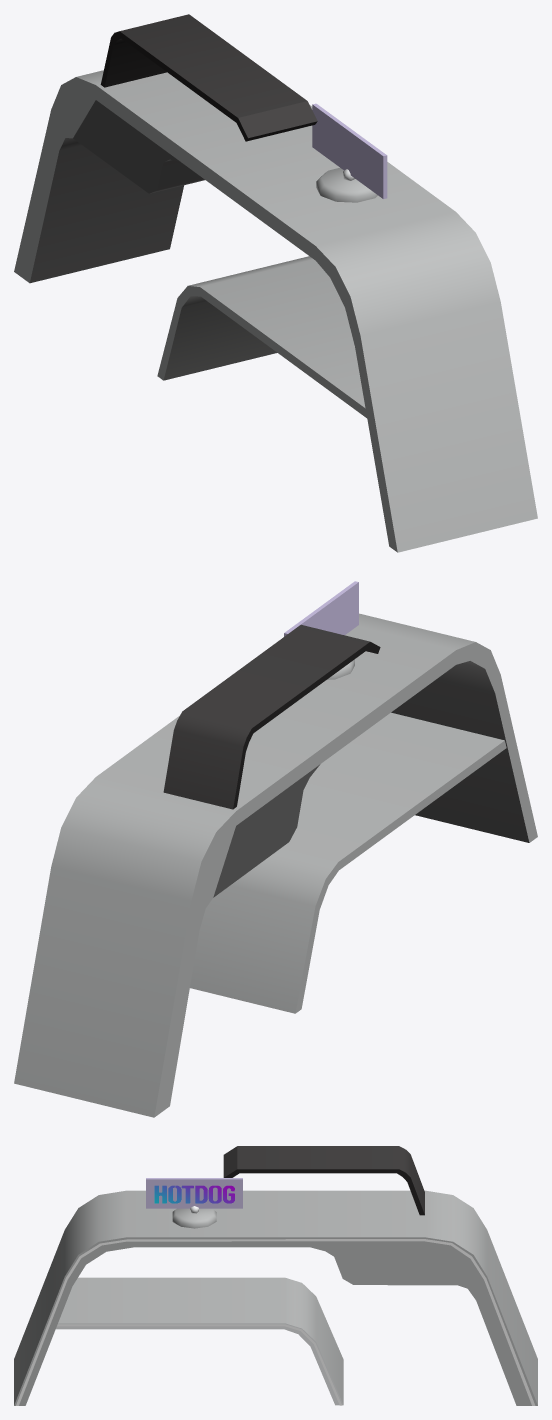
The model's file is M_chuangbiangui01.FBX.
The picture shows the model from 3 angles, top to bottom: view 1: azimuth 30°, elevation 25°; view 2: azimuth 150°, elevation 25°; view 3: azimuth 270°, elevation 25°; orthographic projection. The views are drawn at different scales.
Visible parts, largest first — view 1: M_chuangbiangui01_01, M_chuangbiangui01_02, M_chuangbiangui01_06, M_chuangbiangui01_04; view 2: M_chuangbiangui01_01, M_chuangbiangui01_02, M_chuangbiangui01_06; view 3: M_chuangbiangui01_01, M_chuangbiangui01_02, M_chuangbiangui01_03, M_chuangbiangui01_06, M_chuangbiangui01_07, M_chuangbiangui01_04.
Part boxes in pixels (x1,y1,x2,y2): M_chuangbiangui01_01: [14, 70, 537, 552]; M_chuangbiangui01_02: [100, 14, 317, 141]; M_chuangbiangui01_06: [312, 103, 387, 199]; M_chuangbiangui01_04: [316, 168, 377, 202]; M_chuangbiangui01_01: [14, 613, 537, 1117]; M_chuangbiangui01_02: [163, 624, 380, 809]; M_chuangbiangui01_06: [284, 581, 358, 636]; M_chuangbiangui01_01: [14, 1190, 537, 1405]; M_chuangbiangui01_02: [223, 1146, 424, 1215]; M_chuangbiangui01_03: [16, 1239, 535, 1405]; M_chuangbiangui01_06: [146, 1178, 242, 1208]; M_chuangbiangui01_07: [154, 1185, 234, 1203]; M_chuangbiangui01_04: [172, 1208, 216, 1228].
Bounding box in the file's own units: 0.69 × 1.48 × 3.27.
